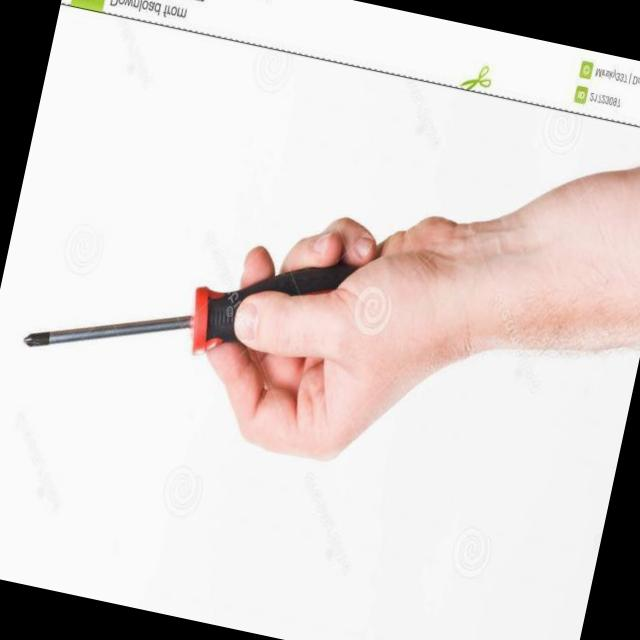screwdriver: (24, 262, 353, 353)
